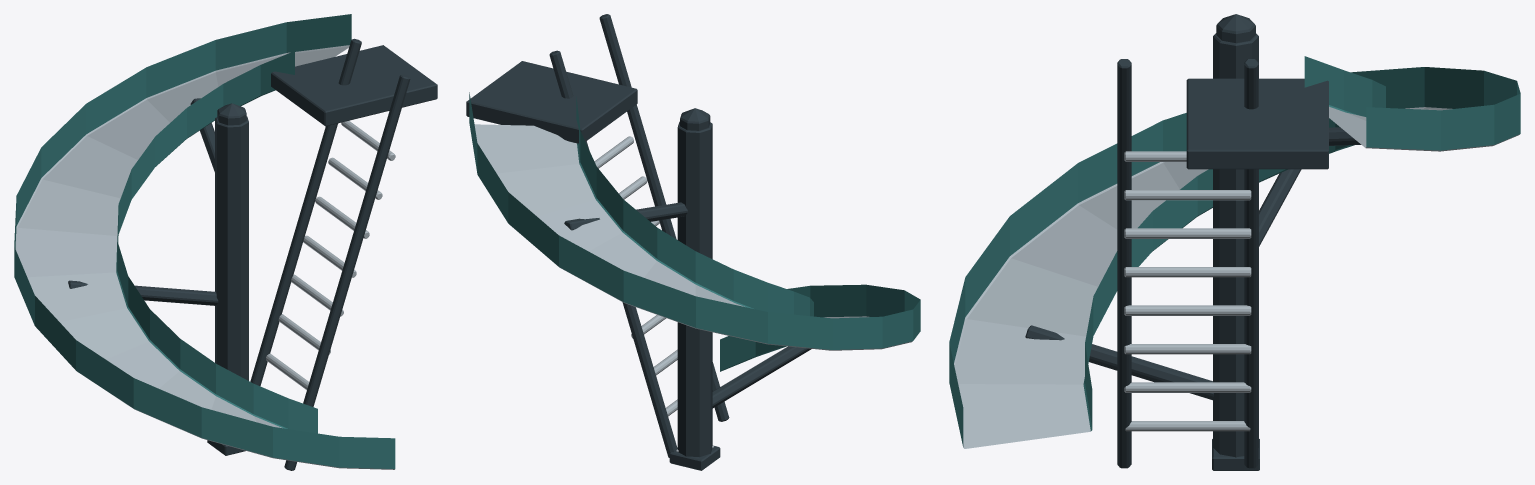
Rendered from b09_curved_slide.glb.
The picture shows the model from 3 angles, left to right: view 1: azimuth 30°, elevation 25°; view 2: azimuth 150°, elevation 25°; view 3: azimuth 270°, elevation 25°; orthographic projection. The views are drawn at different scales.
Visible parts, largest first — view 1: b09_curved_slide; view 2: b09_curved_slide; view 3: b09_curved_slide.
Part boxes in pixels (bbox=[...]): b09_curved_slide: bbox=[14, 14, 437, 470]; b09_curved_slide: bbox=[466, 14, 920, 470]; b09_curved_slide: bbox=[949, 14, 1520, 470].
Bounding box in the file's own units: 2.6 × 2.44 × 2.61.
